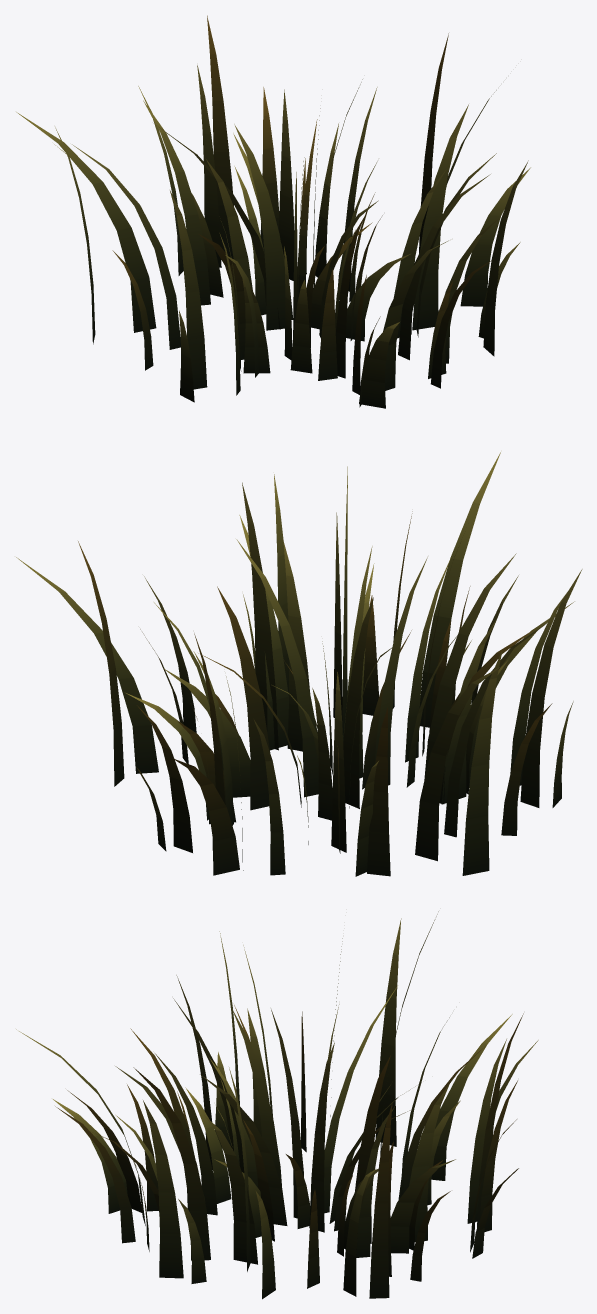
File: SM_V2_Grass_Dune.fbx
The picture shows the model from 3 angles, top to bottom: view 1: azimuth 30°, elevation 25°; view 2: azimuth 150°, elevation 25°; view 3: azimuth 270°, elevation 25°; orthographic projection. The views are drawn at different scales.
Visible parts, largest first — view 1: SM_V2_Grass_Dune; view 2: SM_V2_Grass_Dune; view 3: SM_V2_Grass_Dune.
Boxes of the visible parts, x1=… form: SM_V2_Grass_Dune: x1=16, y1=15, x2=530, y2=408; SM_V2_Grass_Dune: x1=16, y1=452, x2=582, y2=876; SM_V2_Grass_Dune: x1=16, y1=911, x2=538, y2=1299.
Bounding box in the file's own units: 1.15 × 0.5293 × 1.24.
